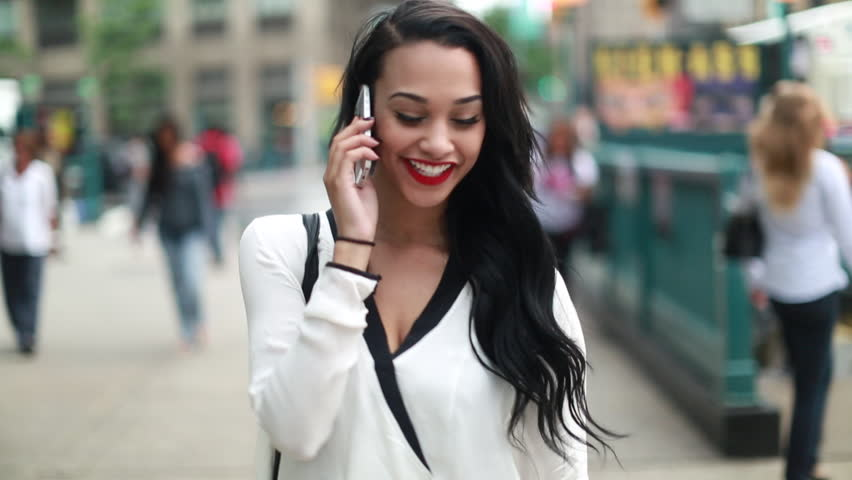phone: (320, 85, 390, 205)
talk: (318, 77, 482, 238)
